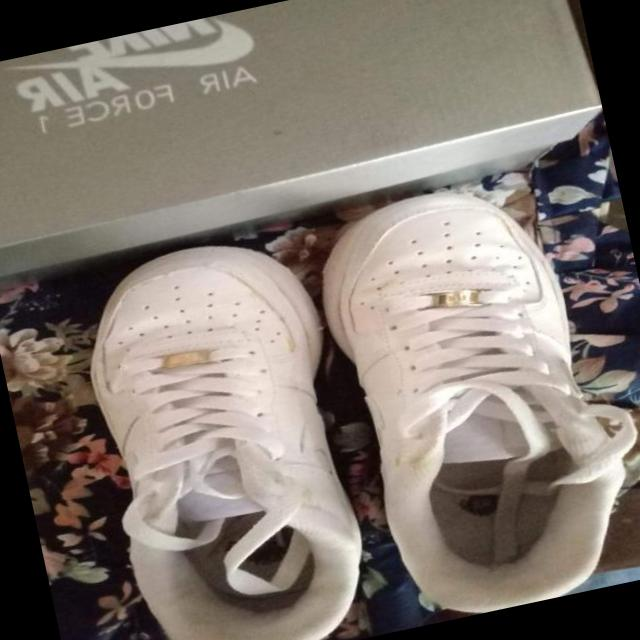nike_fake_airforce: (299, 161, 640, 633), (61, 221, 389, 640)
